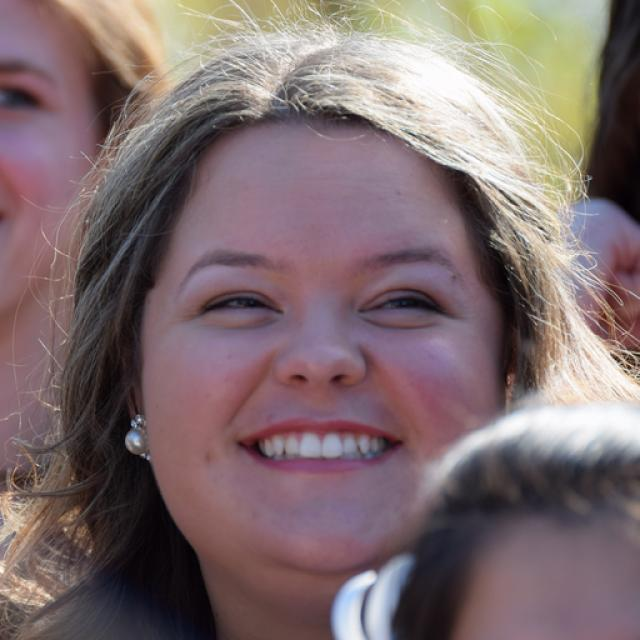happy: (138, 110, 504, 577), (0, 1, 91, 314)
